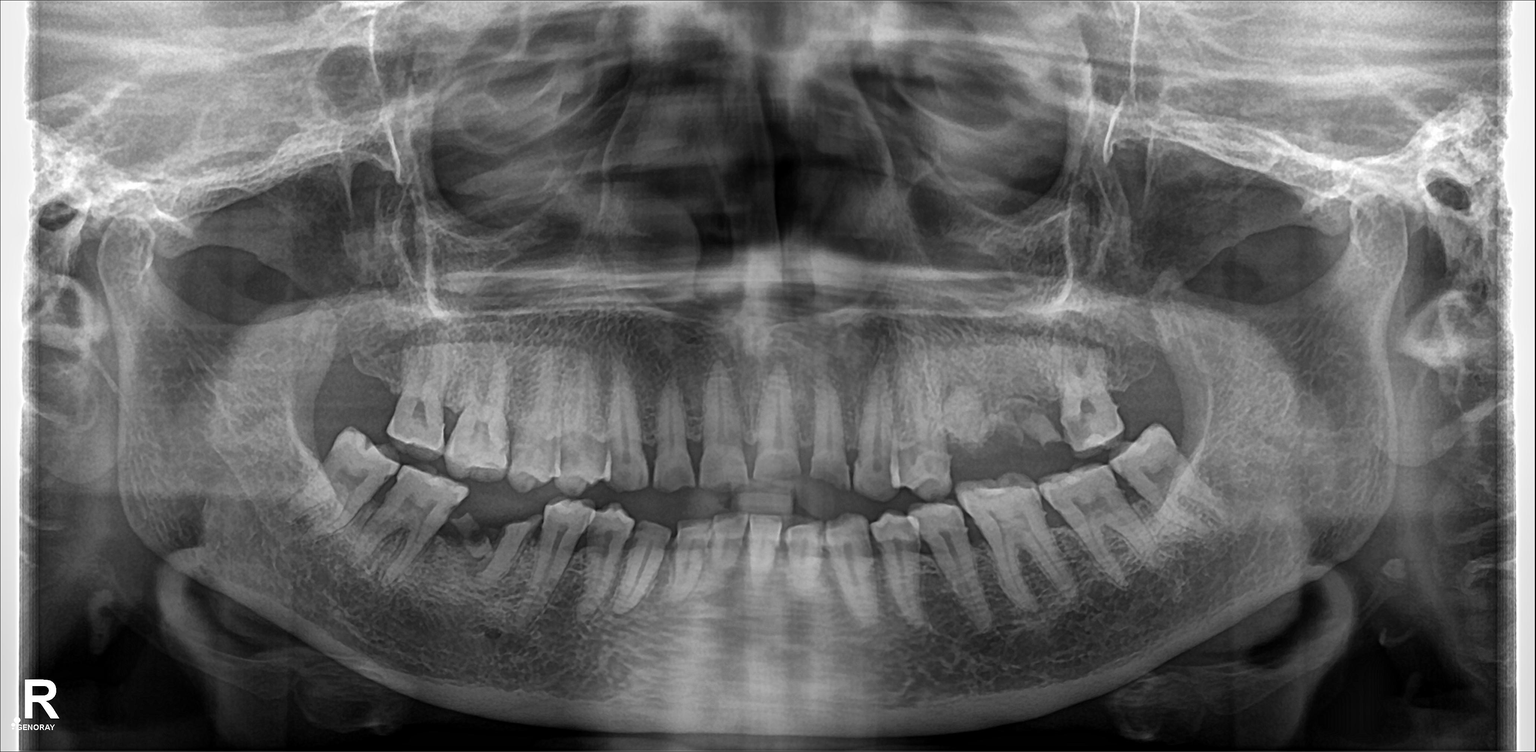Impacted Third Molar: (1123, 445, 1223, 515)
Missing Tooth: (335, 342, 401, 432), (1117, 337, 1181, 422)
Retained Root: (998, 376, 1074, 465), (939, 374, 1000, 469), (453, 499, 498, 581)
